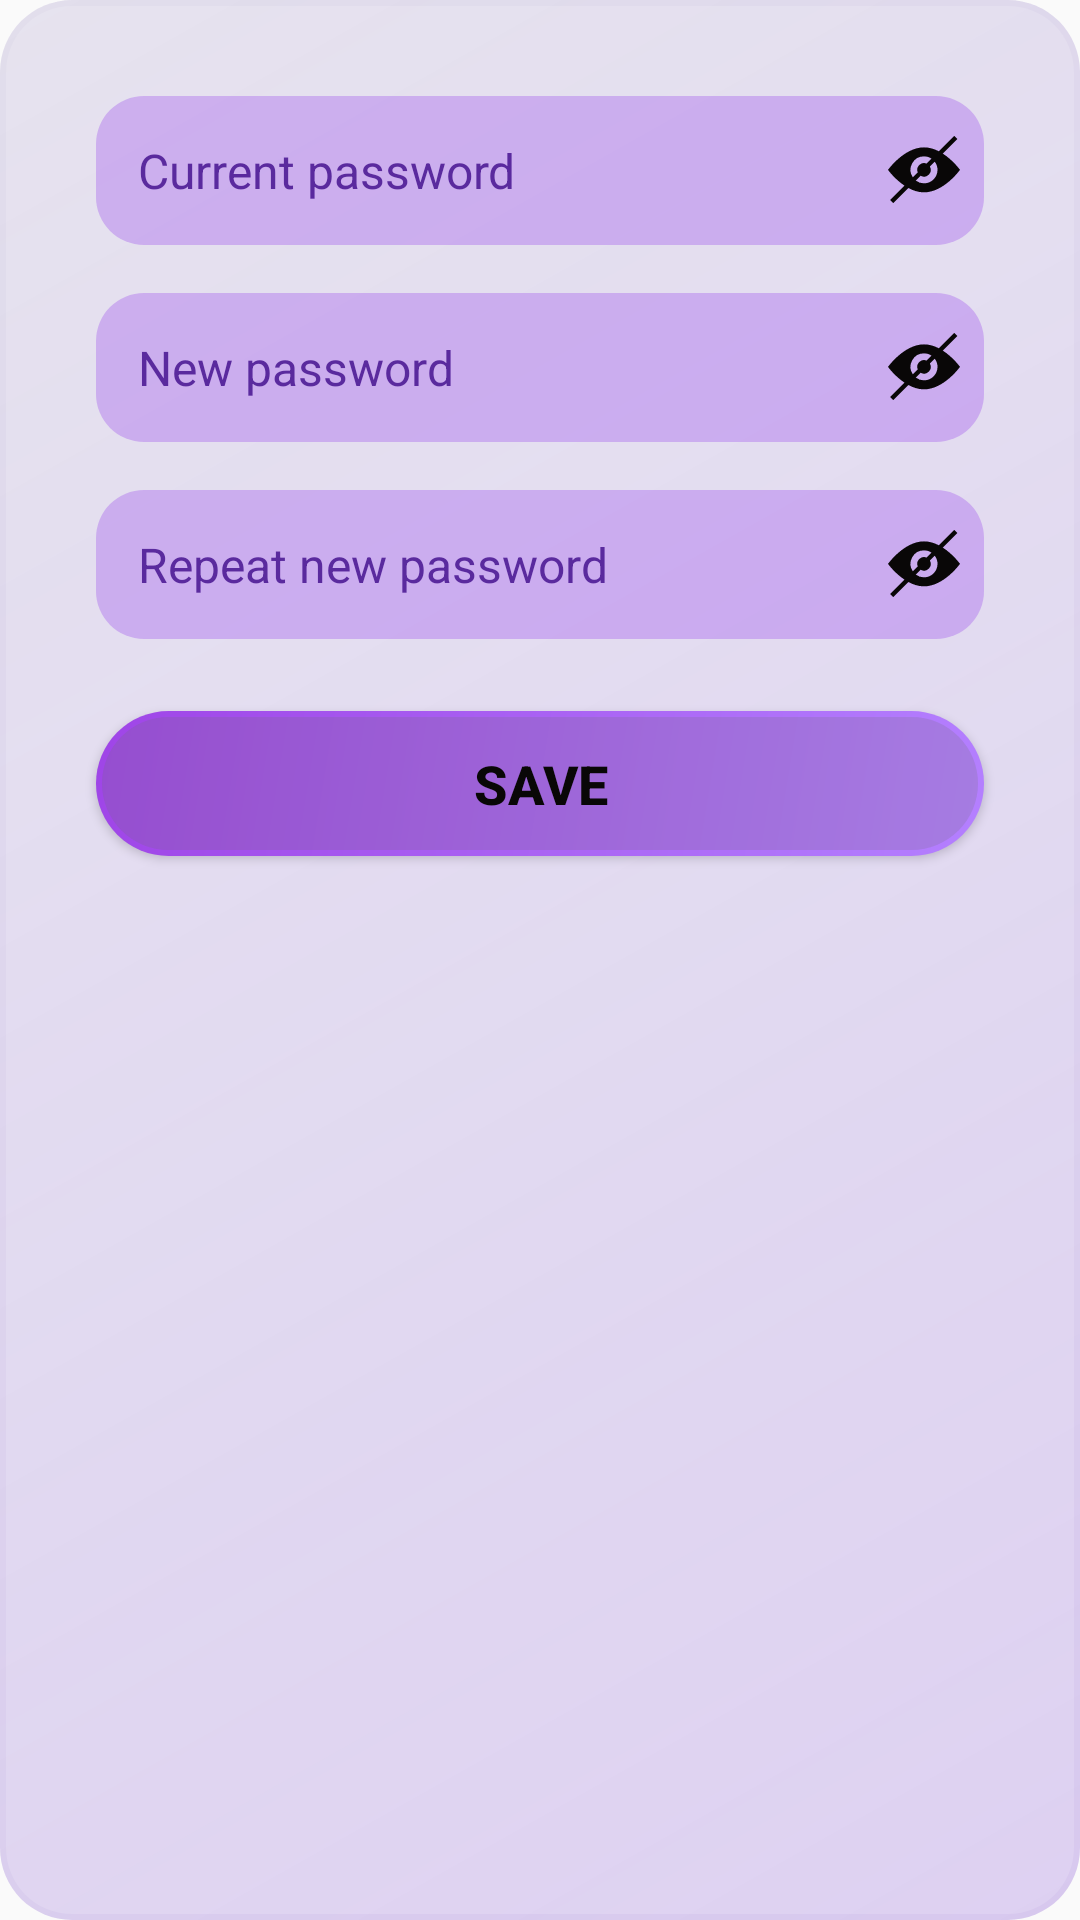

Icons on this 1080px x 1920px Android screen, each with the point to tap as point (x, y):
Toggle Old Password Visibility: point (924, 169)
Toggle Repeat Password Visibility: point (924, 563)
